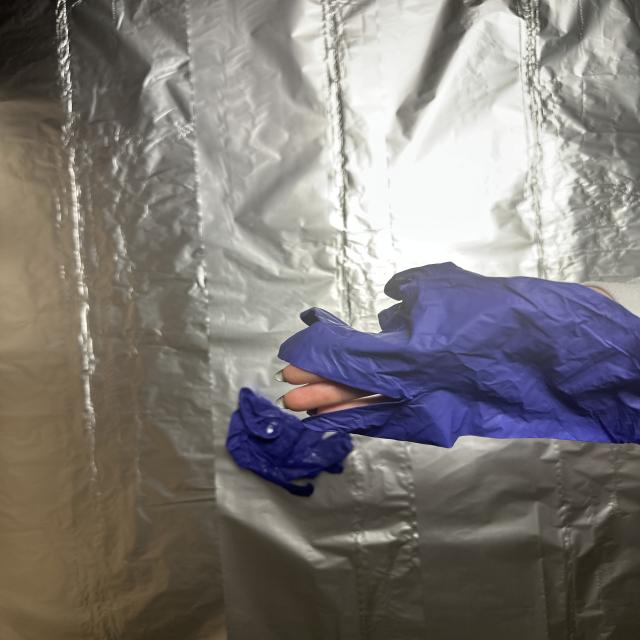glove_not_fitted: (270, 256, 640, 468)
